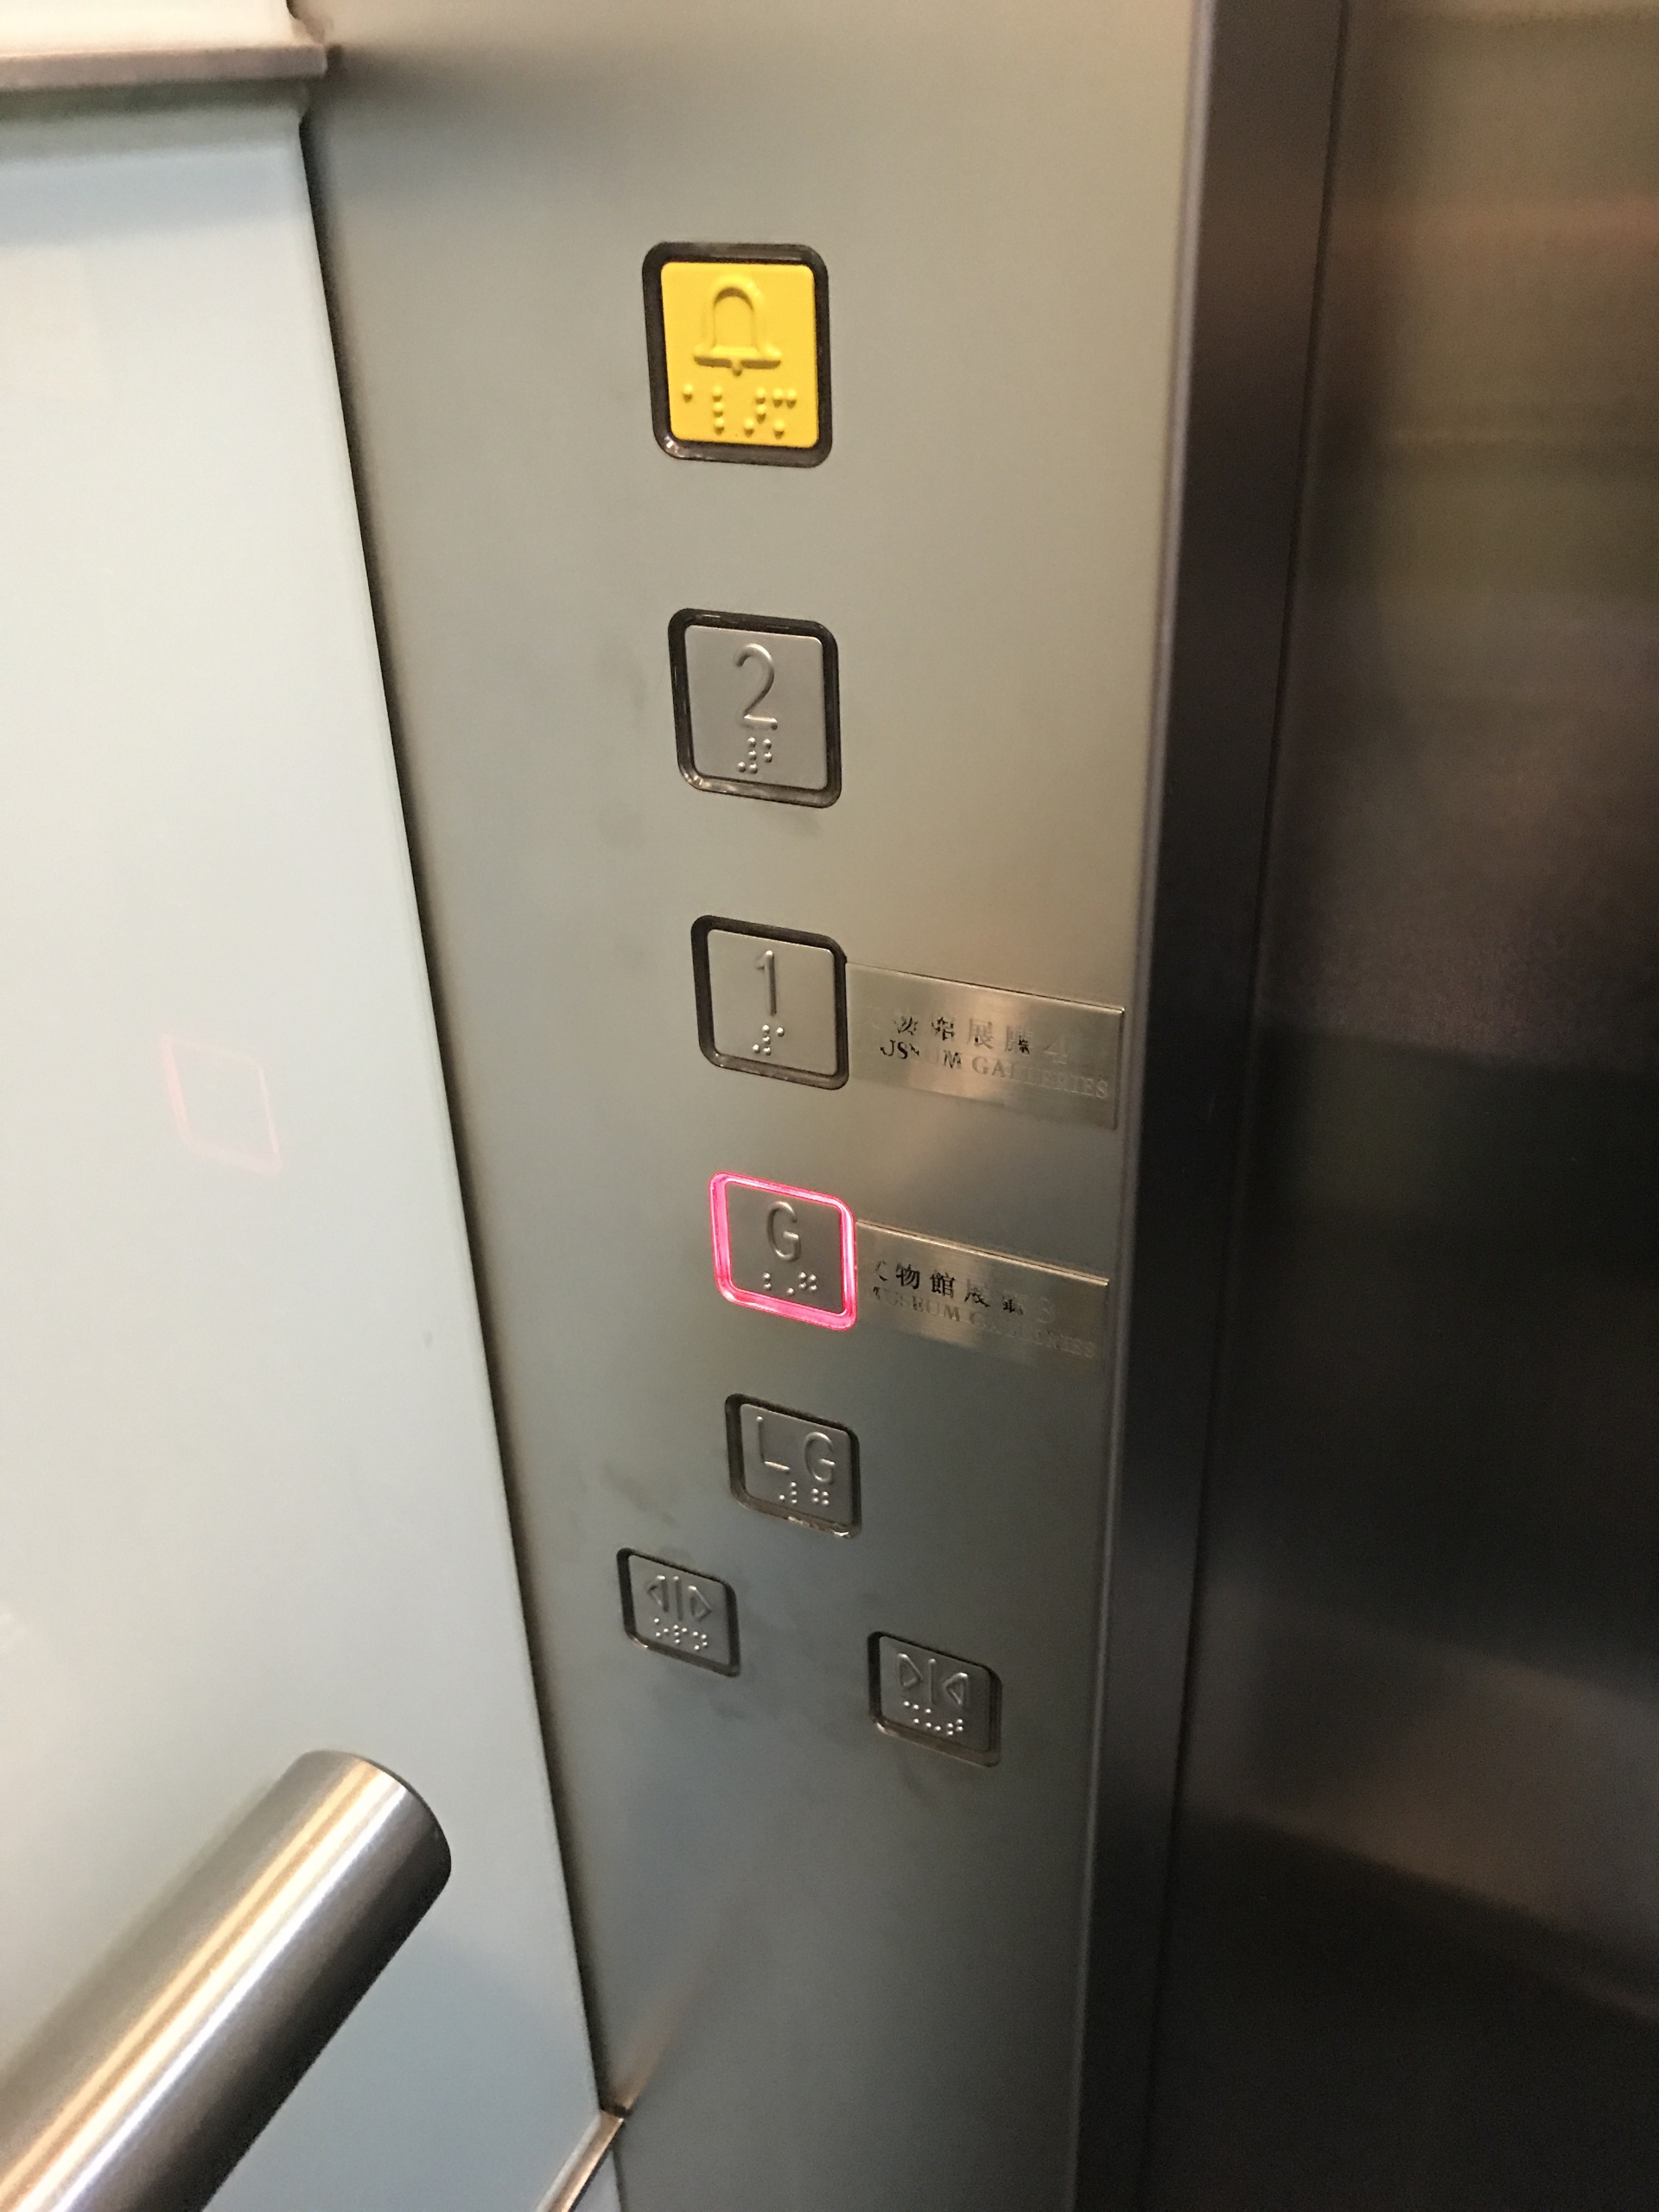1: (685, 906, 856, 1097)
2: (662, 599, 849, 813)
G: (704, 1162, 864, 1338)
LG: (716, 1385, 866, 1547)
alarm: (633, 233, 838, 475)
close: (861, 1625, 1007, 1773)
open: (612, 1541, 746, 1681)
